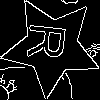R: (27, 22, 75, 62)
